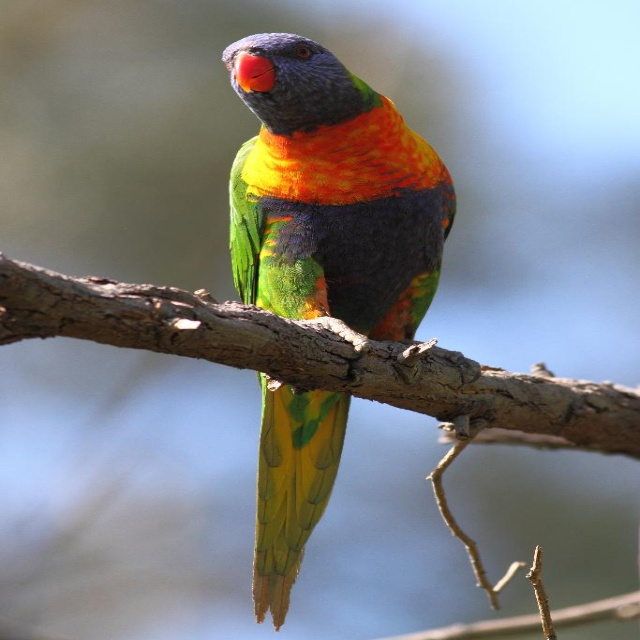Parrot: (217, 29, 459, 627)
